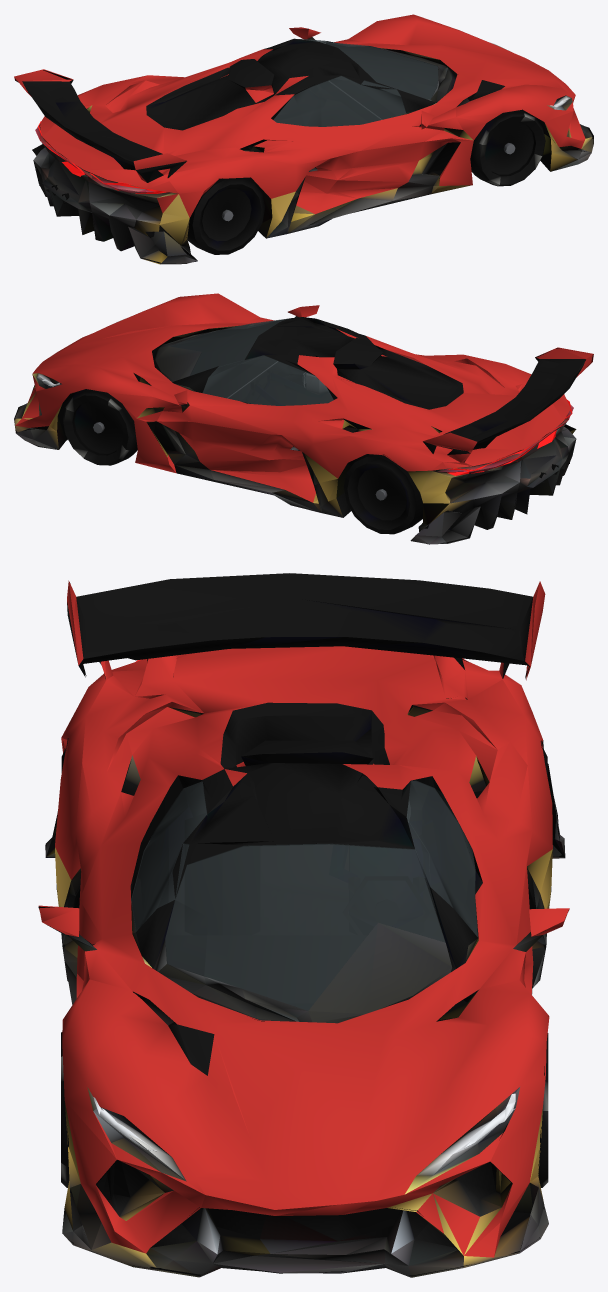
The model's file is rpx_hyperion_race.glb.
3 views of the same model, one above another, from view 1: azimuth 30°, elevation 25°; view 2: azimuth 150°, elevation 25°; view 3: azimuth 270°, elevation 25° (orthographic). The views are drawn at different scales.
Parts seen in each view (by area): view 1: body, window_R, interior, glass, tyre_RR, tyre_FR, rim_RR, rim_FR, taillight_lens; view 2: body, window_L, interior, tyre_RL, glass, tyre_FL, rim_RL, rim_FL, driver, taillight_lens; view 3: body, glass, interior, driver, window_L, window_R, steering_wheel, headlight_lens, tyre_FL.
Boxes of the visible parts, box(x1,y1,x2,y2) form: body: box(14, 14, 593, 264); window_R: box(273, 75, 405, 126); interior: box(320, 49, 430, 122); glass: box(298, 39, 438, 99); tyre_RR: box(187, 177, 265, 254); tyre_FR: box(470, 110, 545, 186); rim_RR: box(202, 188, 251, 241); rim_FR: box(485, 122, 533, 174); taillight_lens: box(38, 121, 167, 193); body: box(14, 293, 593, 544); window_L: box(202, 355, 333, 405); interior: box(191, 328, 287, 400); tyre_RL: box(344, 454, 422, 534); glass: box(169, 318, 289, 375); tyre_FL: box(63, 389, 137, 465); rim_RL: box(357, 468, 406, 520); rim_FL: box(74, 401, 123, 453); driver: box(251, 370, 333, 405); taillight_lens: box(447, 399, 572, 475); body: box(38, 573, 569, 1277); glass: box(165, 818, 475, 1010); interior: box(165, 813, 477, 1010); driver: box(329, 802, 439, 927); window_L: box(406, 780, 478, 937); window_R: box(131, 781, 206, 931); steering_wheel: box(343, 876, 430, 934); headlight_lens: box(93, 1093, 515, 1151); tyre_FL: box(538, 1033, 548, 1187).
Size of the model in its own units: 4.71 by 1.11 by 2.14.
